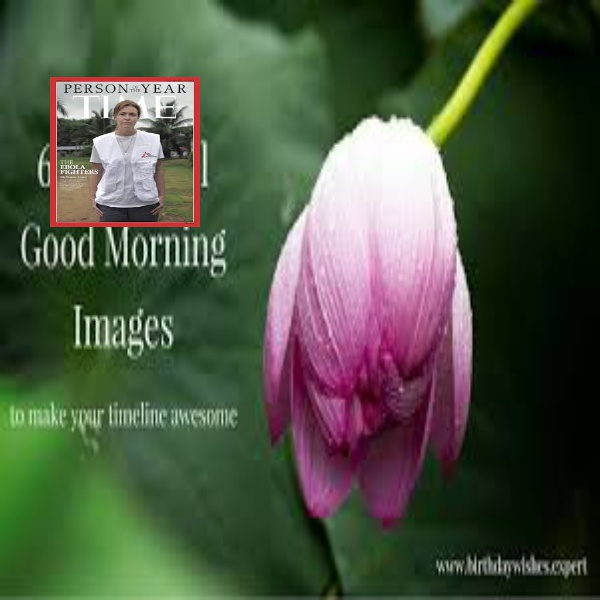time_cover: (46, 68, 210, 237)
